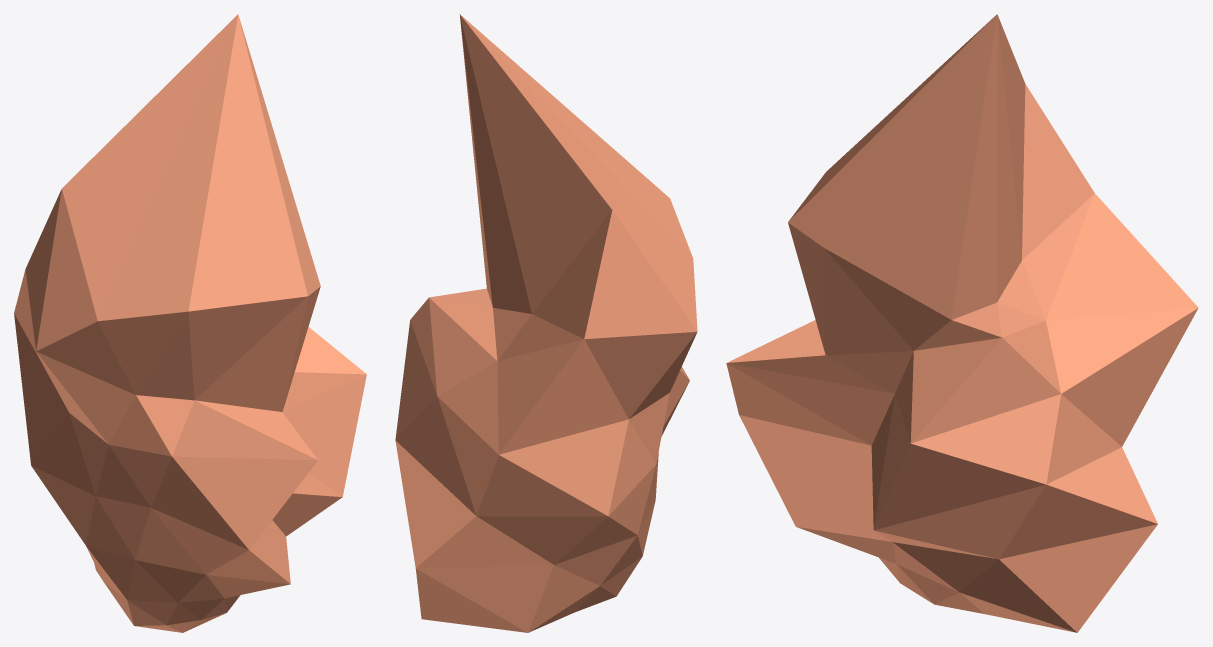
The model's file is stone3.fbx.
3 views of the same model, side by side, from view 1: azimuth 30°, elevation 25°; view 2: azimuth 150°, elevation 25°; view 3: azimuth 270°, elevation 25° (orthographic). The views are drawn at different scales.
Visible parts, largest first — view 1: stone_obj; view 2: stone_obj; view 3: stone_obj.
Part boxes in pixels (x1,y1,x2,y2): stone_obj: [14, 14, 366, 632]; stone_obj: [395, 14, 697, 632]; stone_obj: [726, 14, 1198, 632].
Size of the model in its own units: 2.09 by 3.77 by 2.57.
